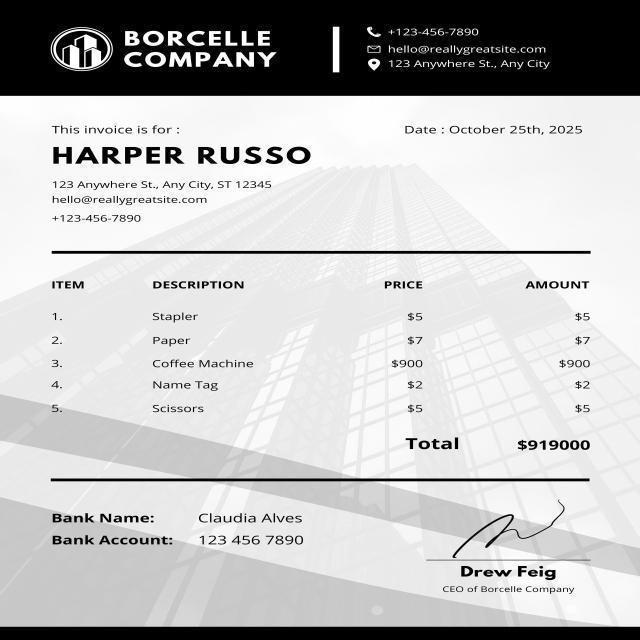ROI: (35, 252, 629, 416), (43, 114, 339, 235), (443, 508, 587, 600), (364, 22, 567, 82), (39, 508, 314, 549), (115, 19, 286, 72), (399, 426, 597, 461), (403, 118, 597, 142)
